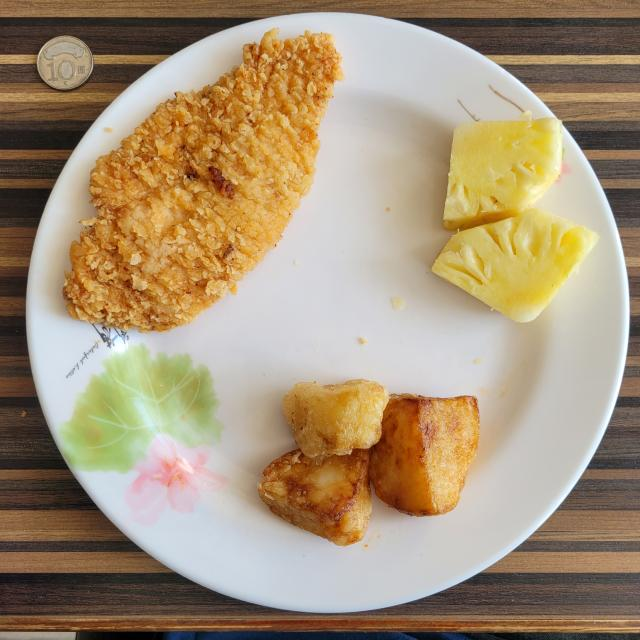coin: (36, 36, 94, 90)
fried chicken cutlet: (64, 29, 342, 332)
fried potato: (258, 379, 480, 546)
pineapple: (431, 118, 599, 322)
